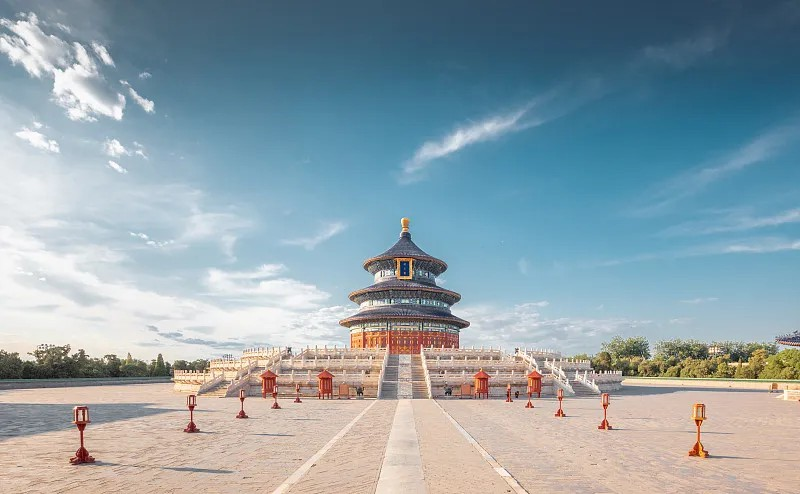Heaven: (339, 218, 469, 354)
